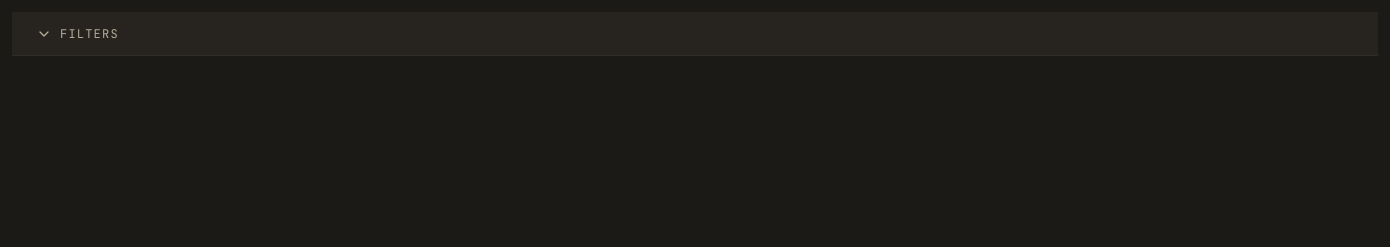
it: ListFilterBar › renders the search placeholder
The width and height of the screenshot is (1390, 247).
Click the button "Filters" at (89, 34), box [12, 12, 1378, 56]
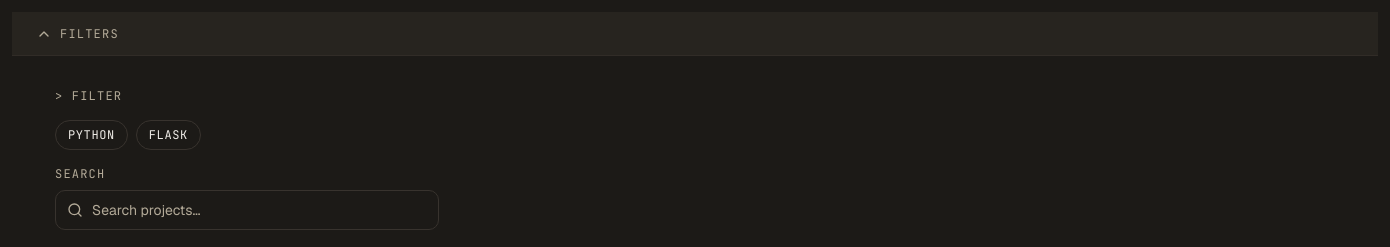
Expected: the search field with placeholder "Search projects…" is shown, [55, 190, 439, 230]
